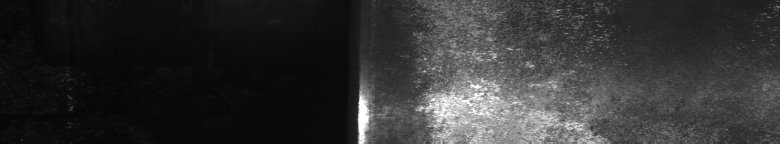kb: (372, 4, 776, 136)
